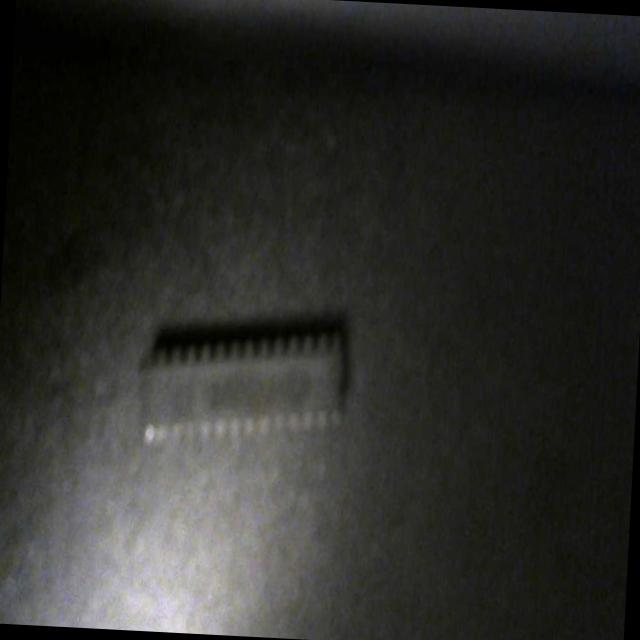atmega: (130, 315, 354, 459)
